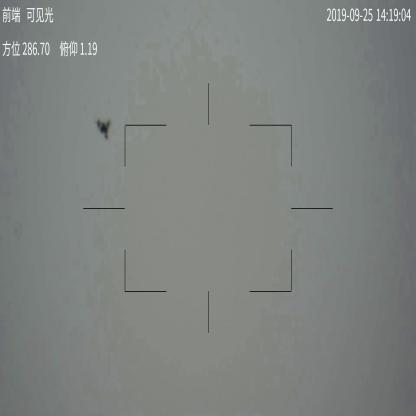uav: (96, 117, 113, 140)
